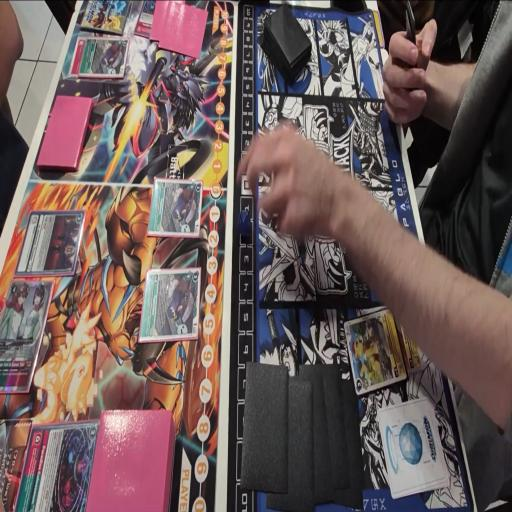card: (11, 417, 102, 512), (0, 278, 56, 390), (342, 307, 402, 399), (136, 266, 204, 344), (15, 210, 87, 280), (145, 182, 204, 238), (80, 36, 130, 74), (395, 302, 422, 368), (68, 36, 86, 74)
